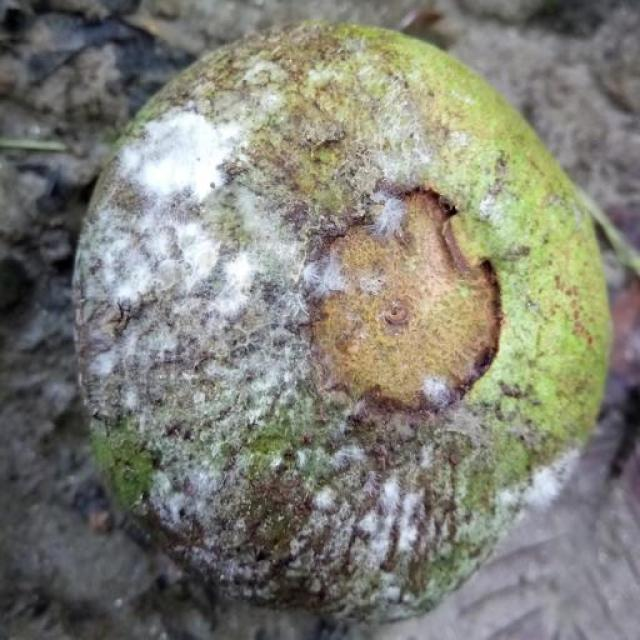Phytopthora: (75, 22, 610, 612)
